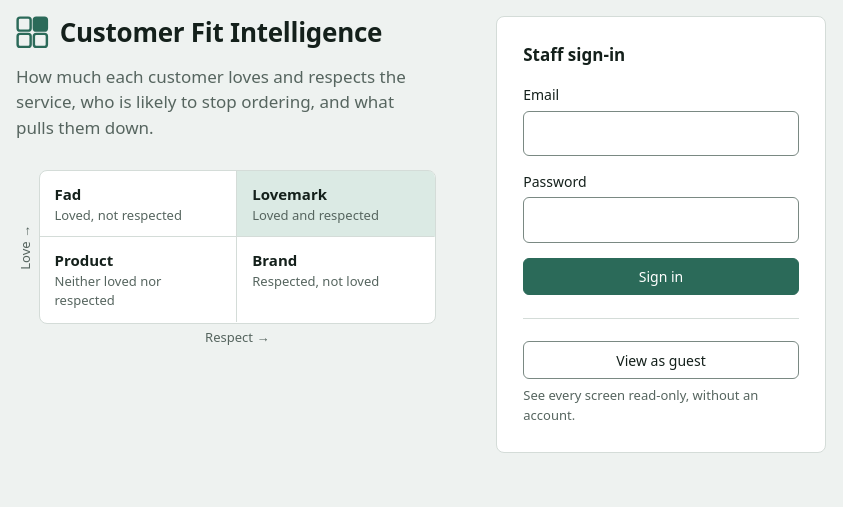
it: signed out, it asks to sign in, and a wrong password says so
In the field labelled "Email": (661, 133) [523,111,799,156], type "ana@example.com"
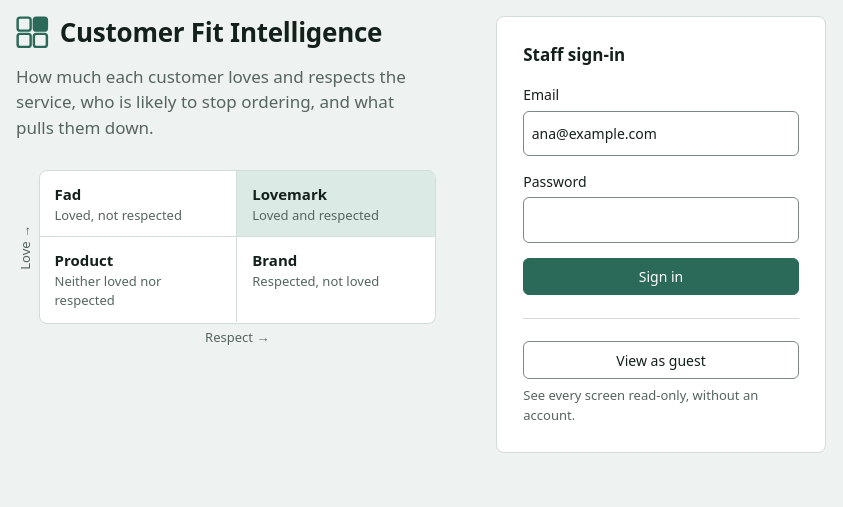
In the password field labelled "Password": (661, 220) [523,198,799,243], type "wrong"
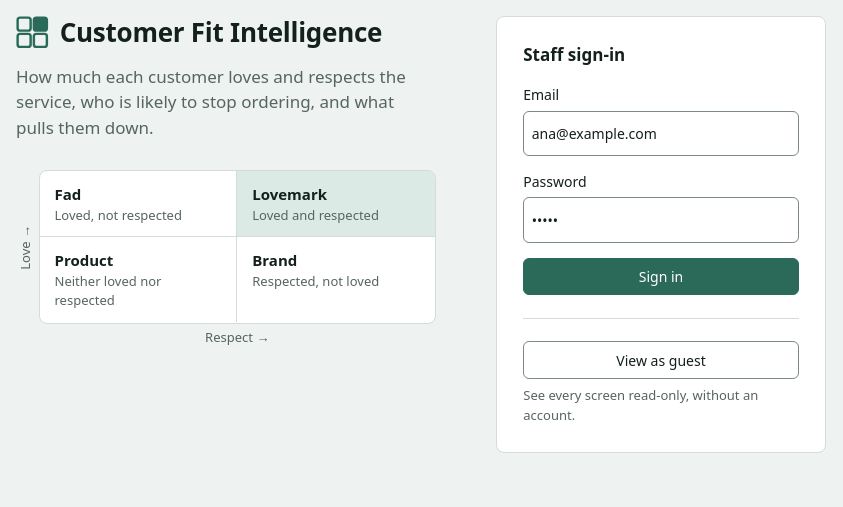
Click the button "Sign in": (661, 277) [523,258,799,296]
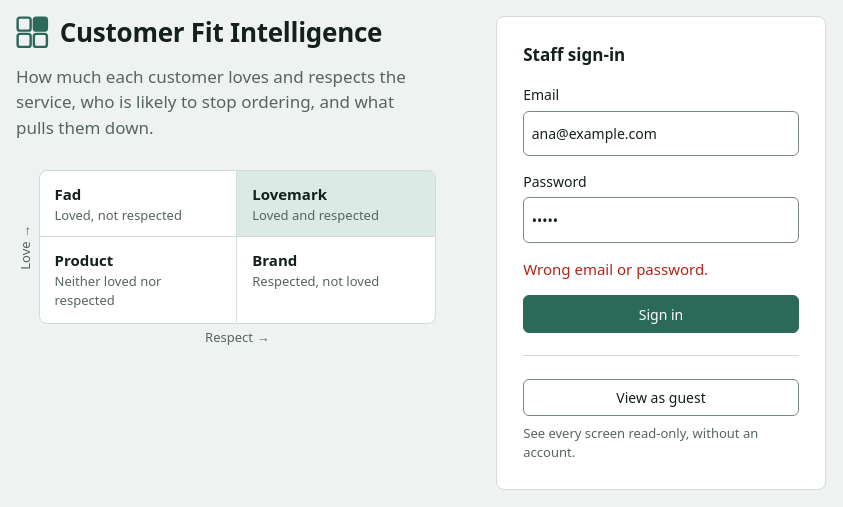
expect the message reads "Wrong email or password.": met, box [523,259,708,279]
